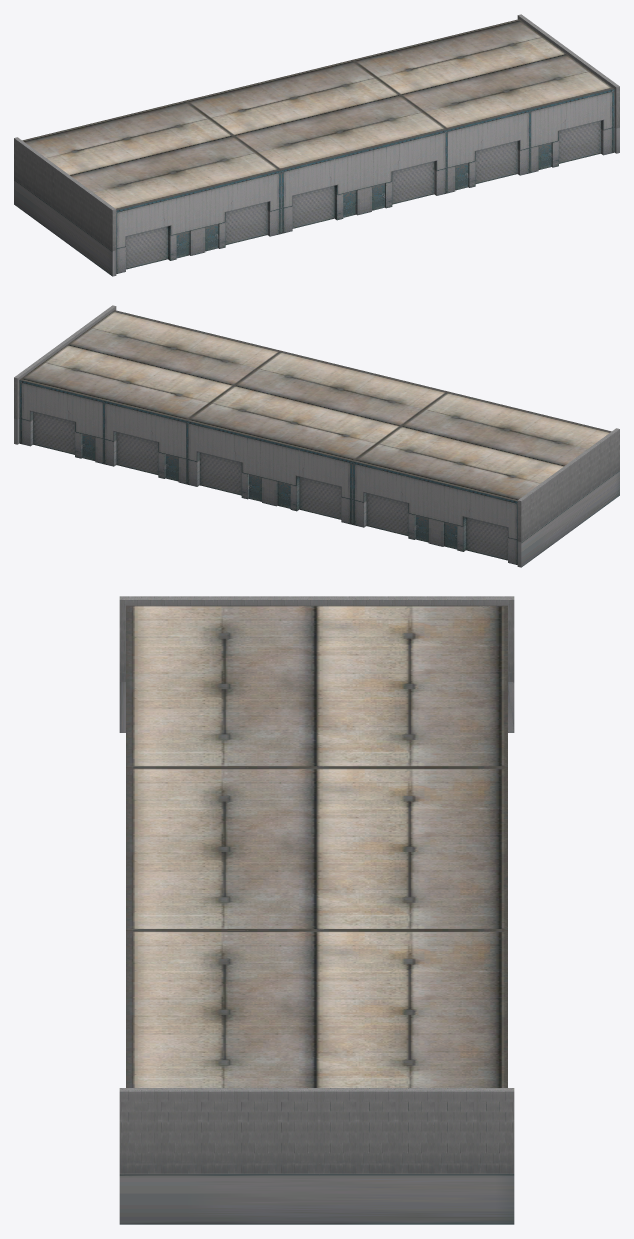
Rendered from vgnhseing44.obj.
3 renders of one model, top to bottom at view 1: azimuth 30°, elevation 25°; view 2: azimuth 150°, elevation 25°; view 3: azimuth 270°, elevation 25°, orthographic. The views are drawn at different scales.
Parts seen in each view (by area): view 1: vgnhseing44; view 2: vgnhseing44; view 3: vgnhseing44.
Boxes of the visible parts, <box> form: vgnhseing44: <box>14,14,619,276</box>; vgnhseing44: <box>14,305,619,567</box>; vgnhseing44: <box>119,596,514,1224</box>.
Bounding box in the file's own units: 45.29 × 5.67 × 15.25.
3 materials, 3 textured.
